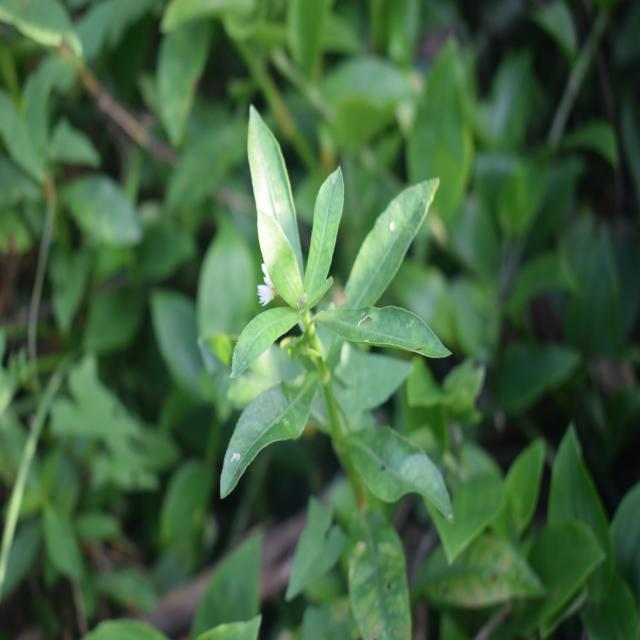Alligatorweed: (221, 119, 441, 544)
